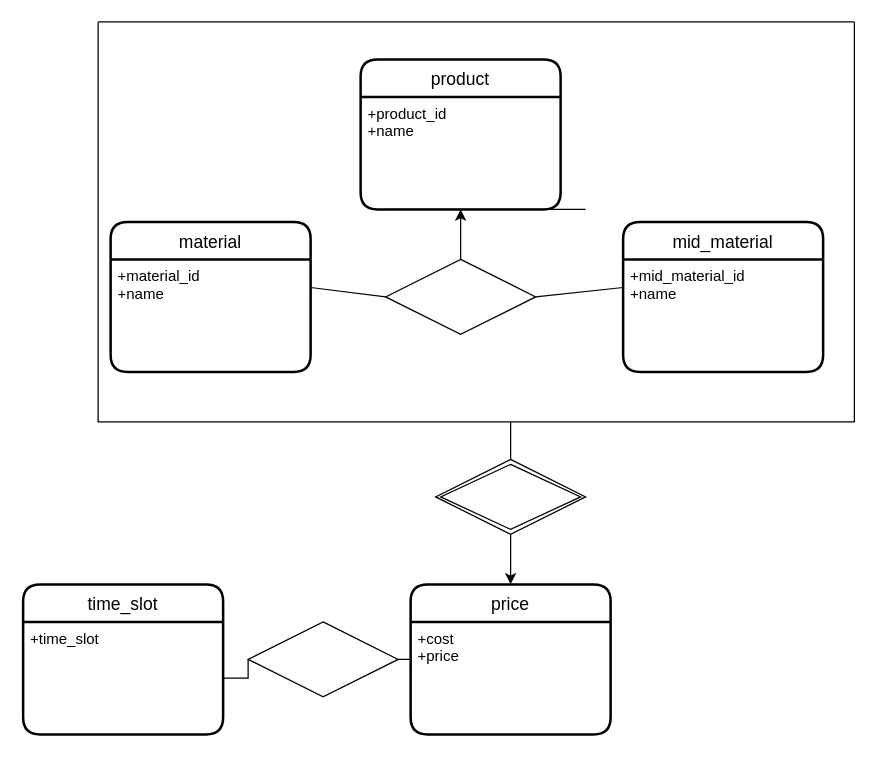
This 876x758 diagram has some shape labels left out. The shapes that lost their labels are listed below. From the top down, each one's box as (x1, y1, x2, y2) in pixels, then its label:
(384, 258, 536, 334): recipy
(434, 458, 586, 534): re_pri
(247, 621, 398, 697): Relationship
